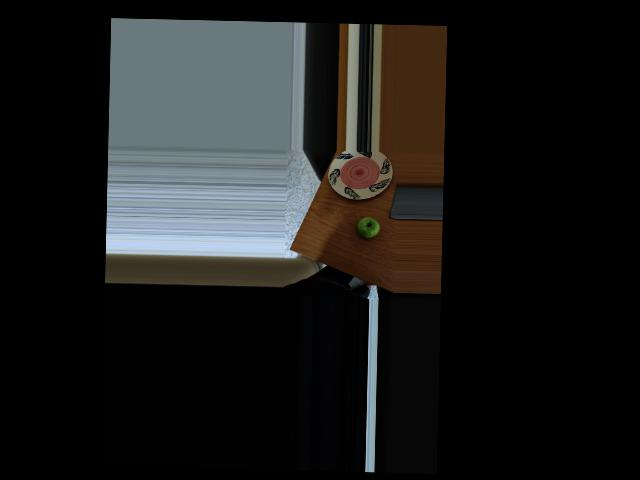apple: (353, 215, 380, 243)
